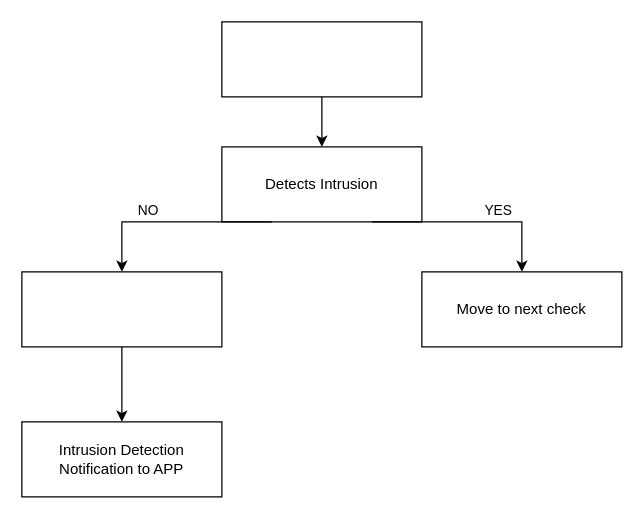
Some shapes in this 644 by 519 pixel diagram are drawn without their labels. Each missing label, with the centre of its shape:
"ESP32" belongs at point 121,309.
"IR Sensor" belongs at point 321,59.
